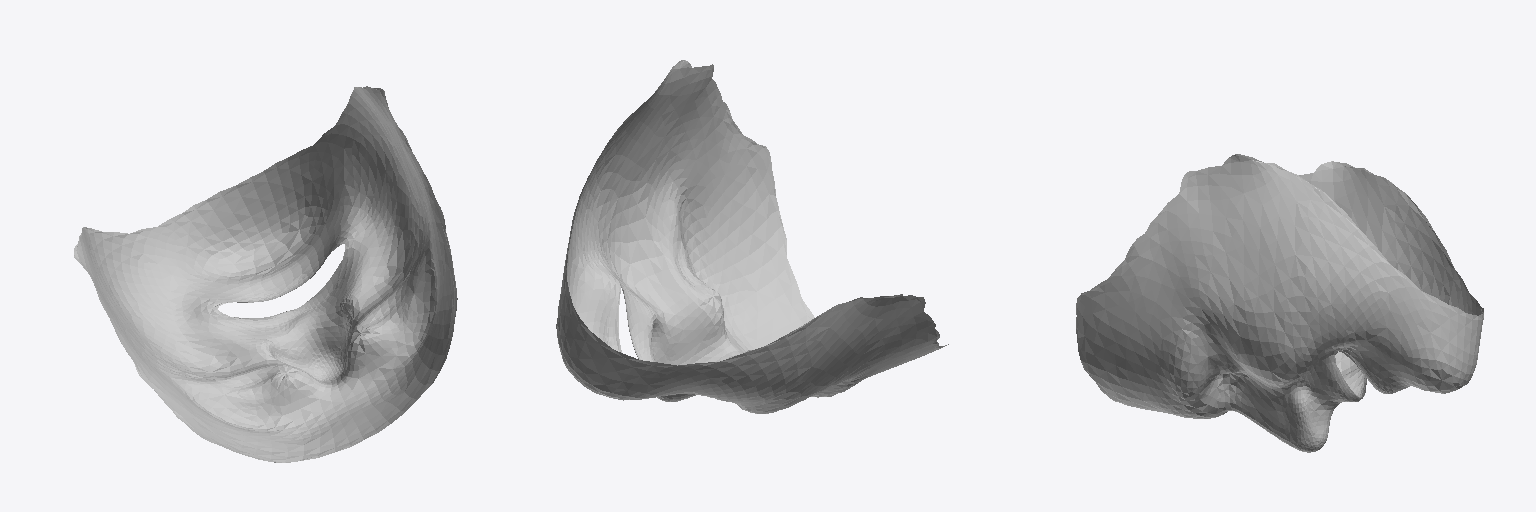
The model's file is face_gab_sfm104.obj.
3 views of the same model, side by side, from view 1: azimuth 30°, elevation 25°; view 2: azimuth 150°, elevation 25°; view 3: azimuth 270°, elevation 25° (orthographic).
Bounding box in the file's own units: 170 × 160 × 192.